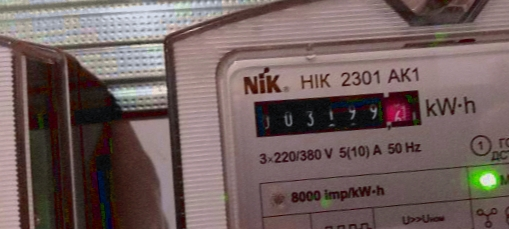0: (257, 109, 272, 132), (280, 107, 294, 128)
1: (324, 102, 336, 122)
3: (302, 108, 316, 128)
6: (392, 107, 404, 124)
9: (345, 101, 358, 122), (366, 100, 379, 120)
screen: (245, 78, 432, 152)
